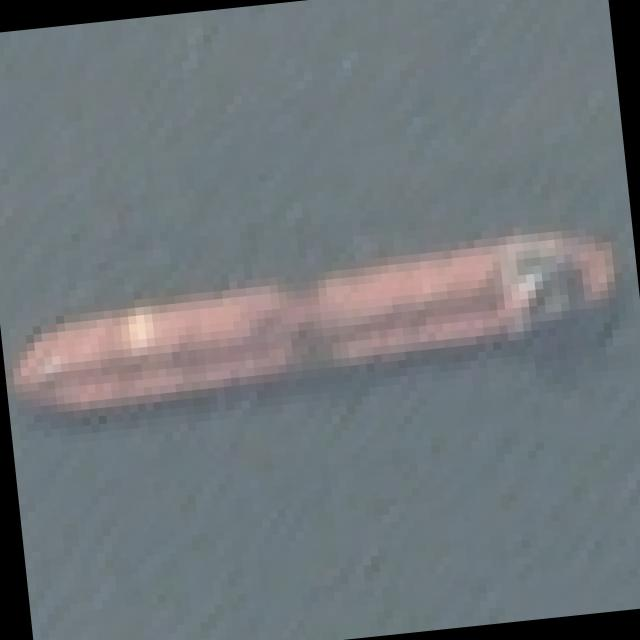ship: (0, 192, 640, 493)
